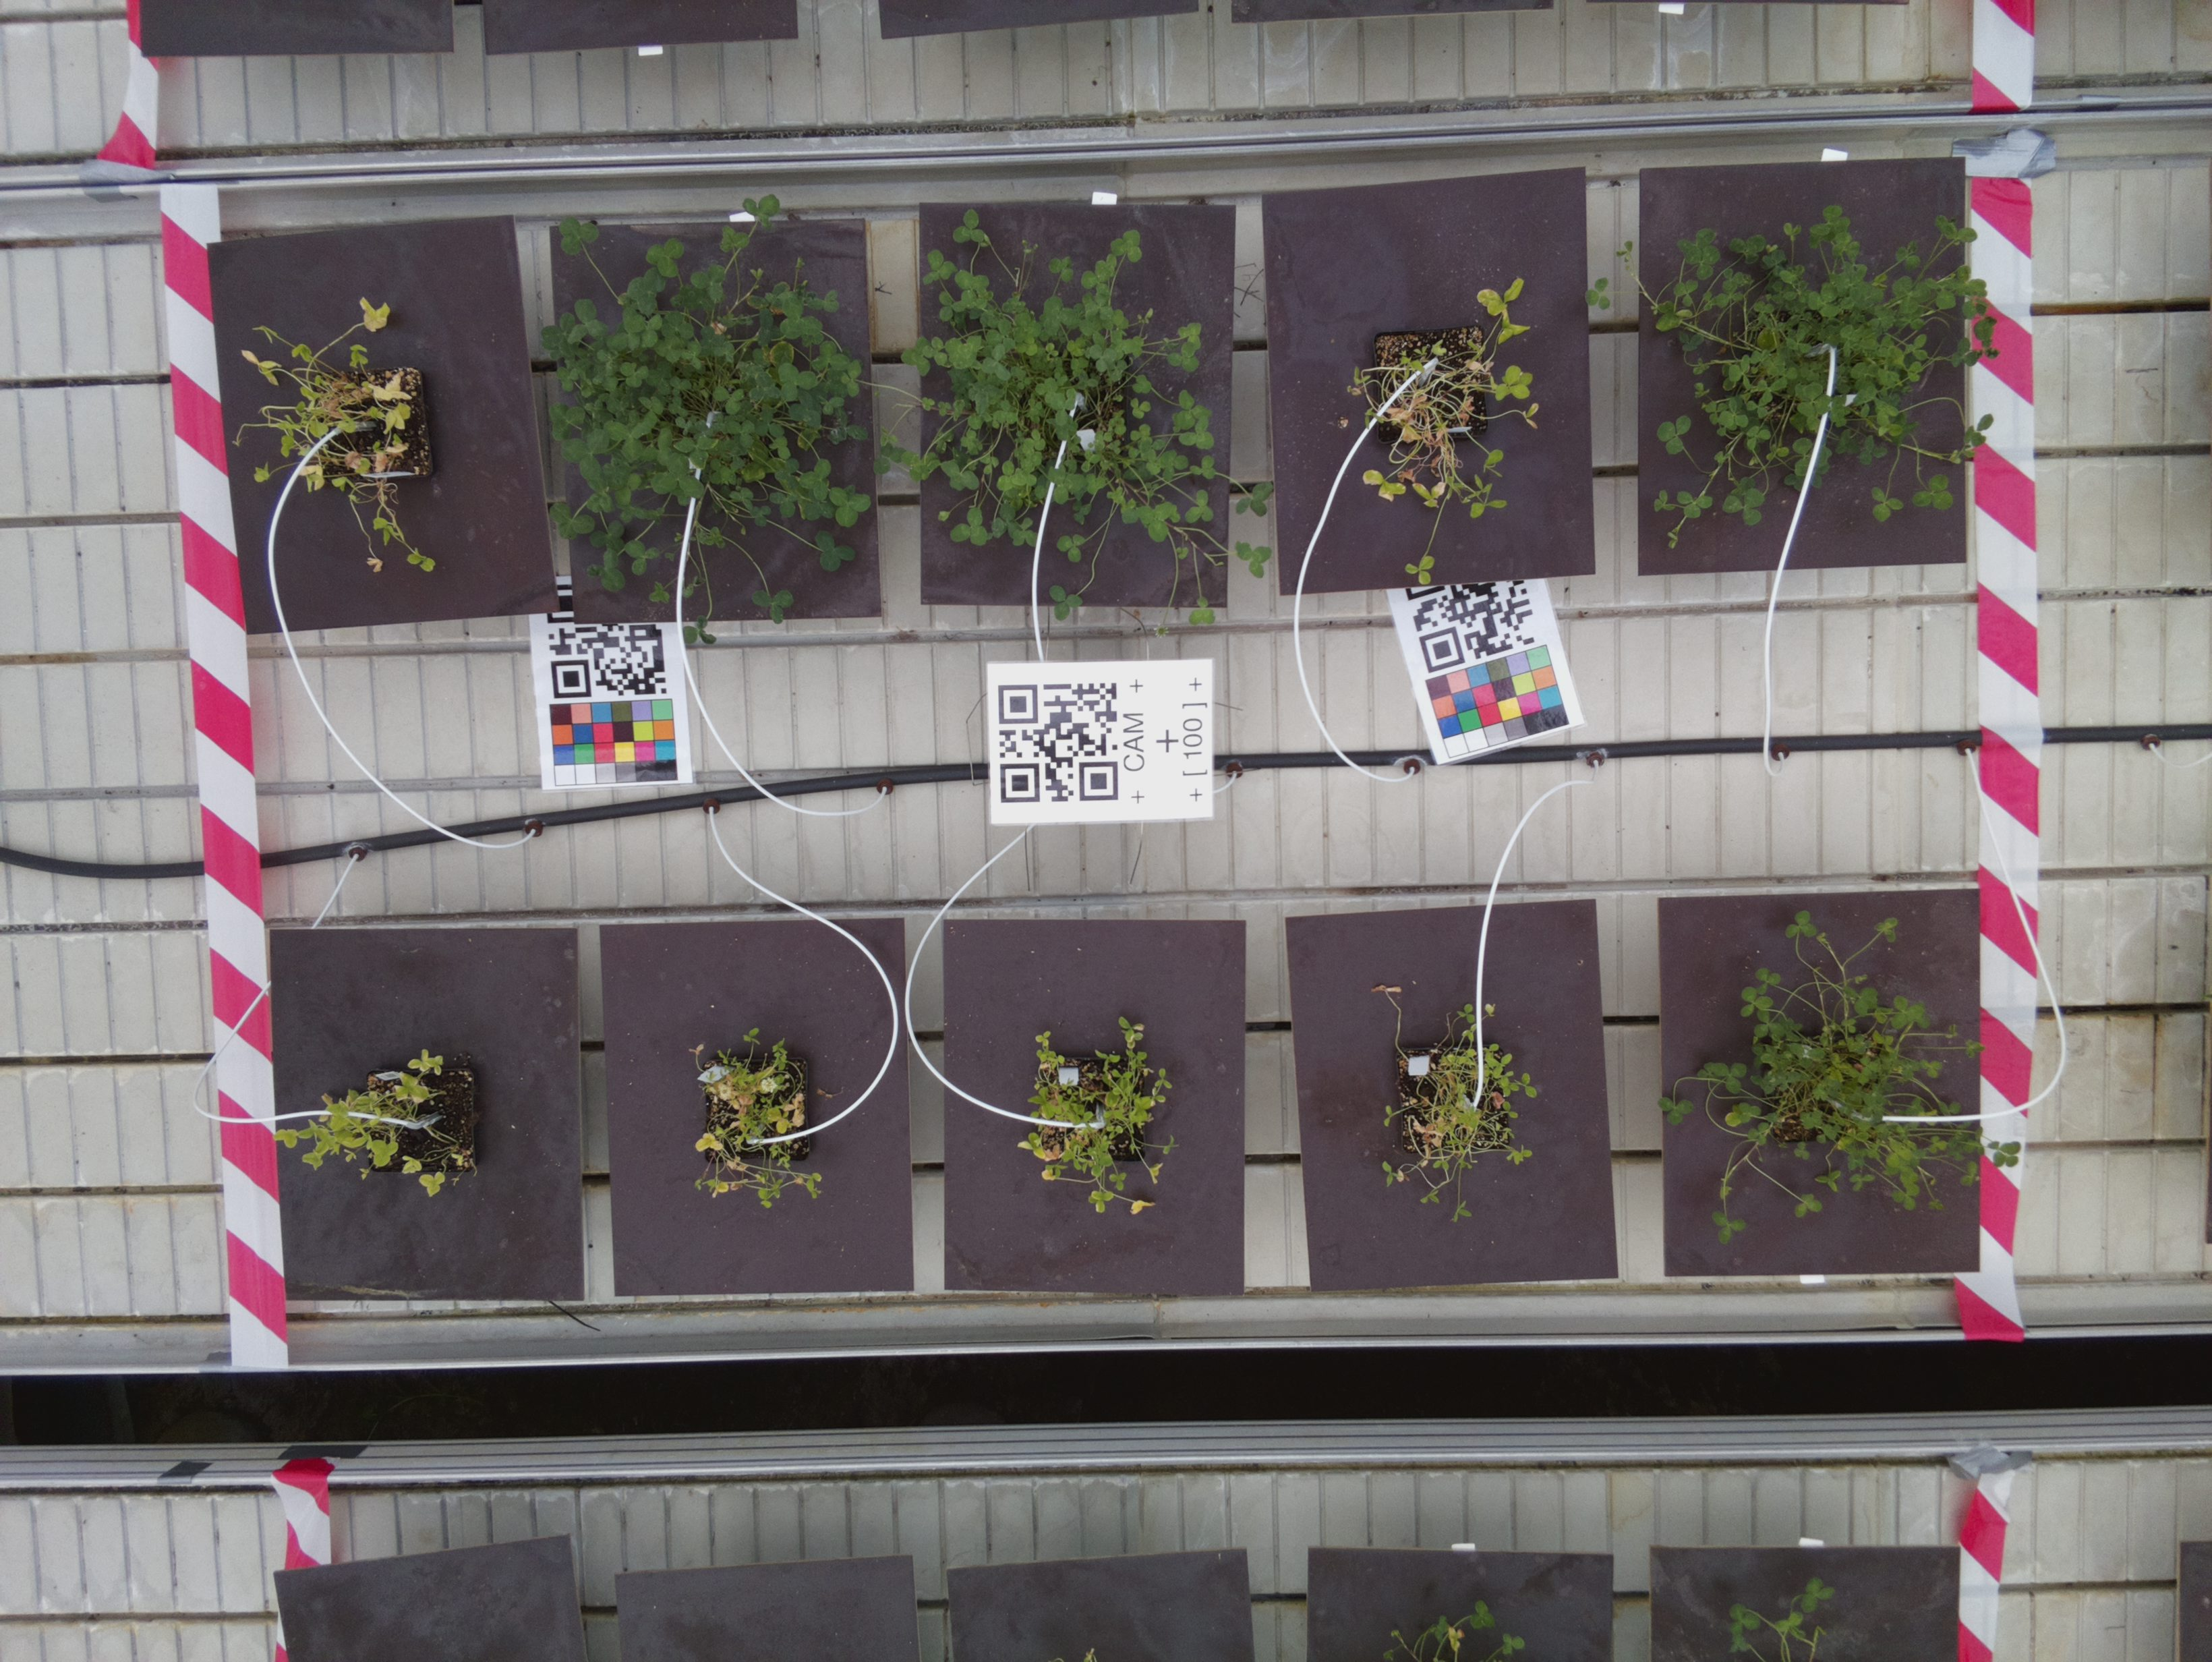POT: (1638, 164, 1975, 569), (1655, 896, 1997, 1283), (208, 234, 553, 616), (1269, 189, 1608, 578), (1278, 903, 1624, 1283), (552, 222, 882, 616), (924, 199, 1236, 611), (587, 913, 918, 1290), (267, 925, 588, 1302), (939, 918, 1252, 1297)
QRCODE: (988, 665, 1215, 821)
QRCOLOR: (1388, 588, 1585, 766), (531, 622, 691, 784)
